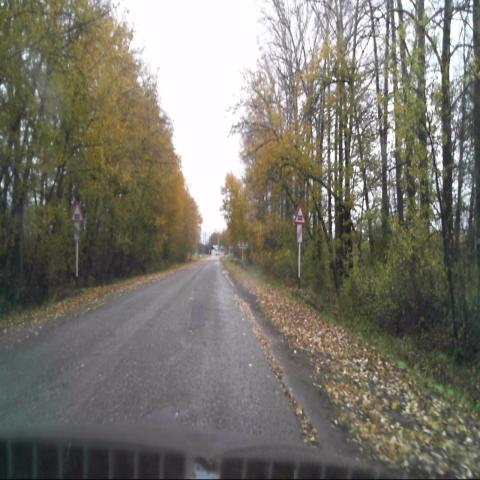1_1: (71, 202, 83, 222)
